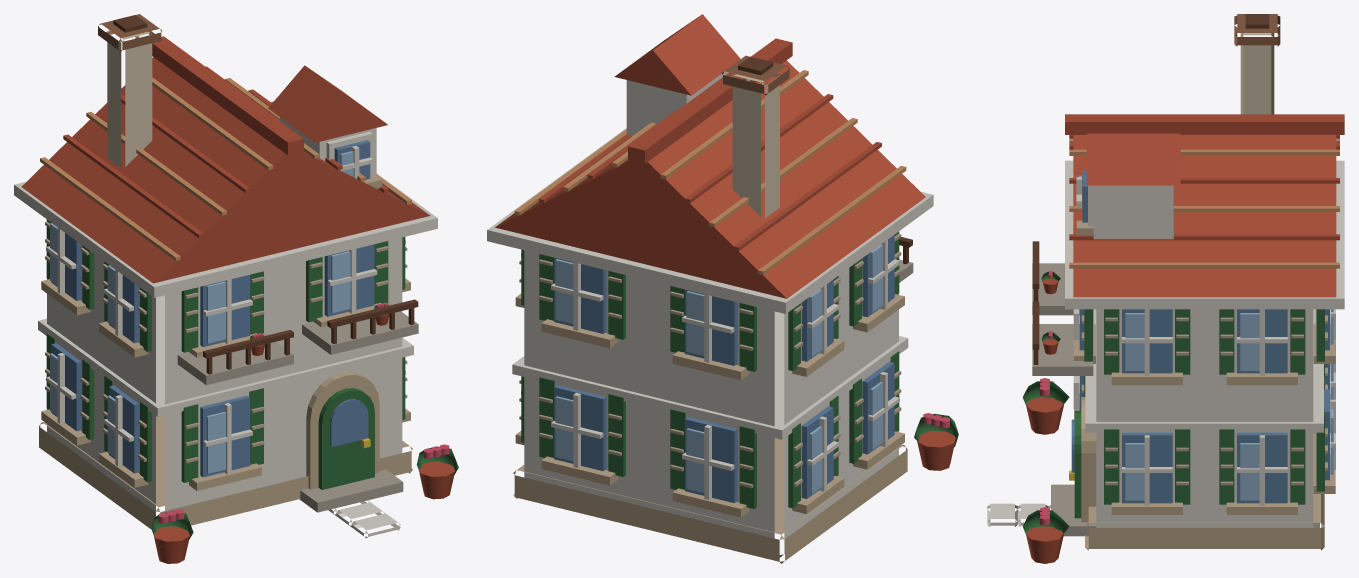
Rendered from house-a.glb.
3 views of the same model, side by side, from view 1: azimuth 30°, elevation 25°; view 2: azimuth 150°, elevation 25°; view 3: azimuth 270°, elevation 25° (orthographic). The views are drawn at different scales.
Parts seen in each view (by area): view 1: house-a; view 2: house-a; view 3: house-a.
Boxes of the visible parts, box(x1,y1,x2,y2) form: house-a: box(14, 14, 458, 563); house-a: box(487, 14, 958, 563); house-a: box(987, 14, 1344, 563).
Size of the model in its own units: 0.8344 by 1.18 by 0.86.
